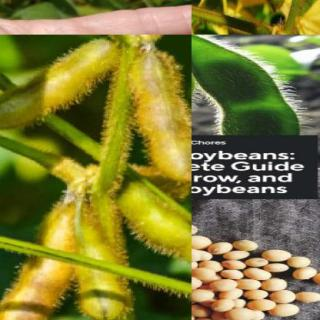soya: (192, 34, 306, 136), (0, 40, 118, 127), (0, 206, 75, 319), (128, 52, 190, 183), (75, 206, 132, 319), (118, 185, 191, 273)
